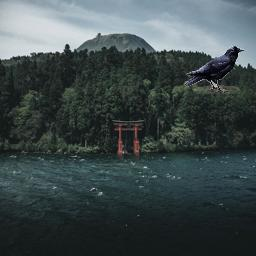Crow: (184, 46, 244, 94)
